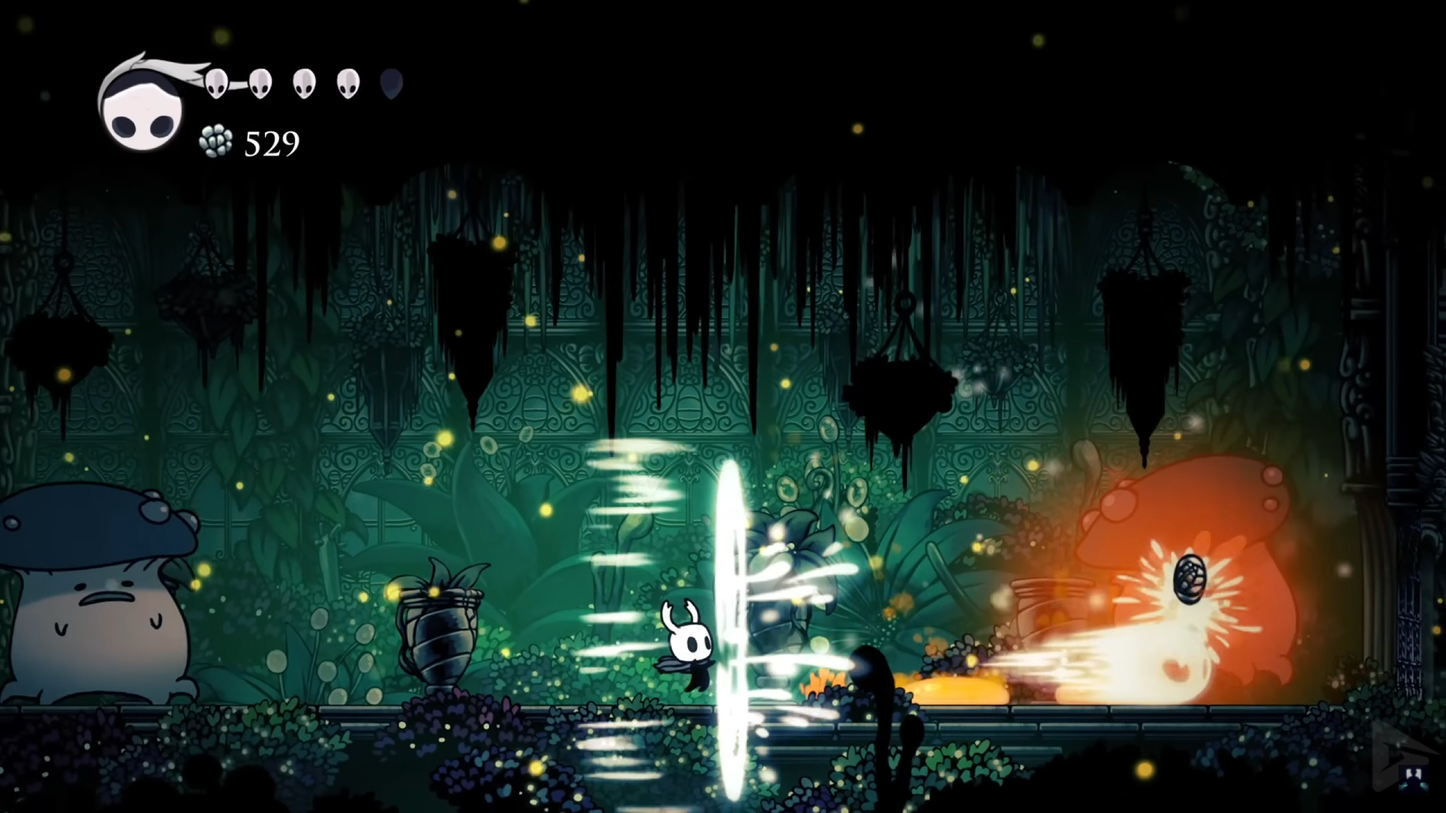HK: (660, 596, 721, 699)
